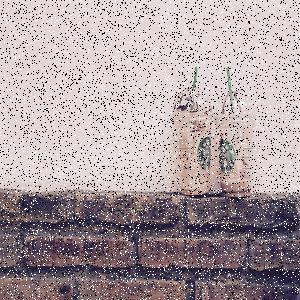Cup: (171, 88, 215, 196), (215, 90, 259, 198)
